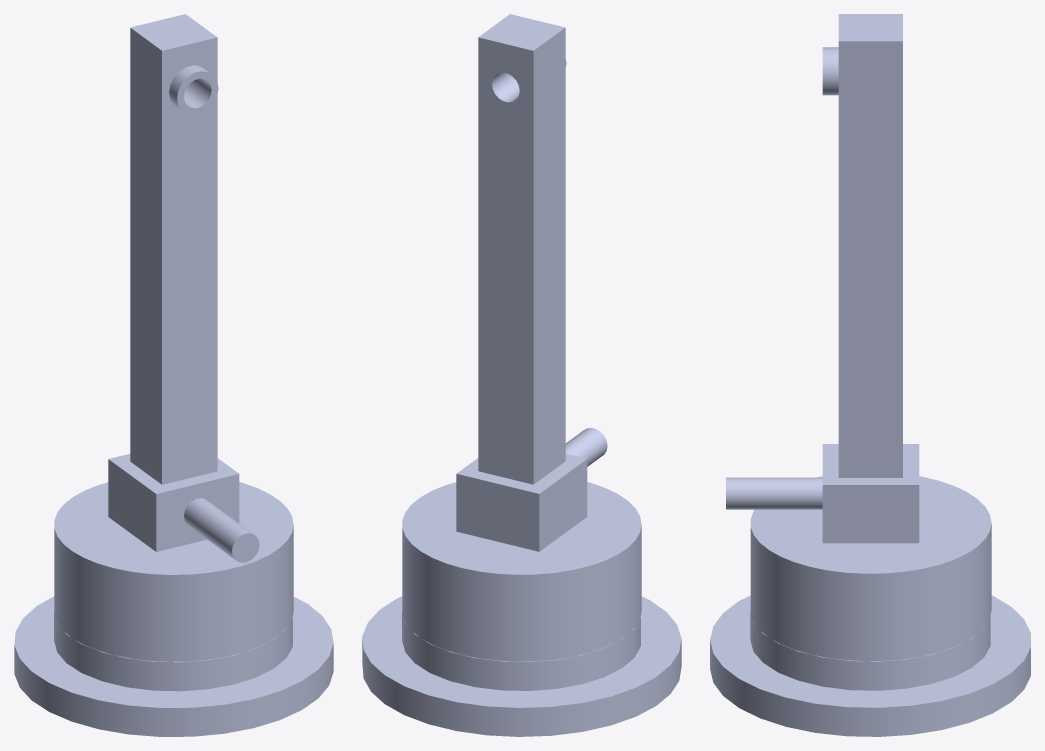
3 views of the same model, side by side, from view 1: azimuth 30°, elevation 25°; view 2: azimuth 150°, elevation 25°; view 3: azimuth 270°, elevation 25° (orthographic).
Parts seen in each view (by area): view 1: 凸台-拉伸7, 凸台-拉伸3; view 2: 凸台-拉伸7, 凸台-拉伸3; view 3: 凸台-拉伸7, 凸台-拉伸3.
Part boxes in pixels (x1,y1,x2,y2): 凸台-拉伸7: [14, 14, 333, 736]; 凸台-拉伸3: [54, 454, 293, 661]; 凸台-拉伸7: [362, 14, 681, 736]; 凸台-拉伸3: [402, 428, 641, 661]; 凸台-拉伸7: [710, 14, 1030, 736]; 凸台-拉伸3: [726, 444, 991, 661].
Bounding box in the file's own units: 2.36 × 5.2 × 2.36.
